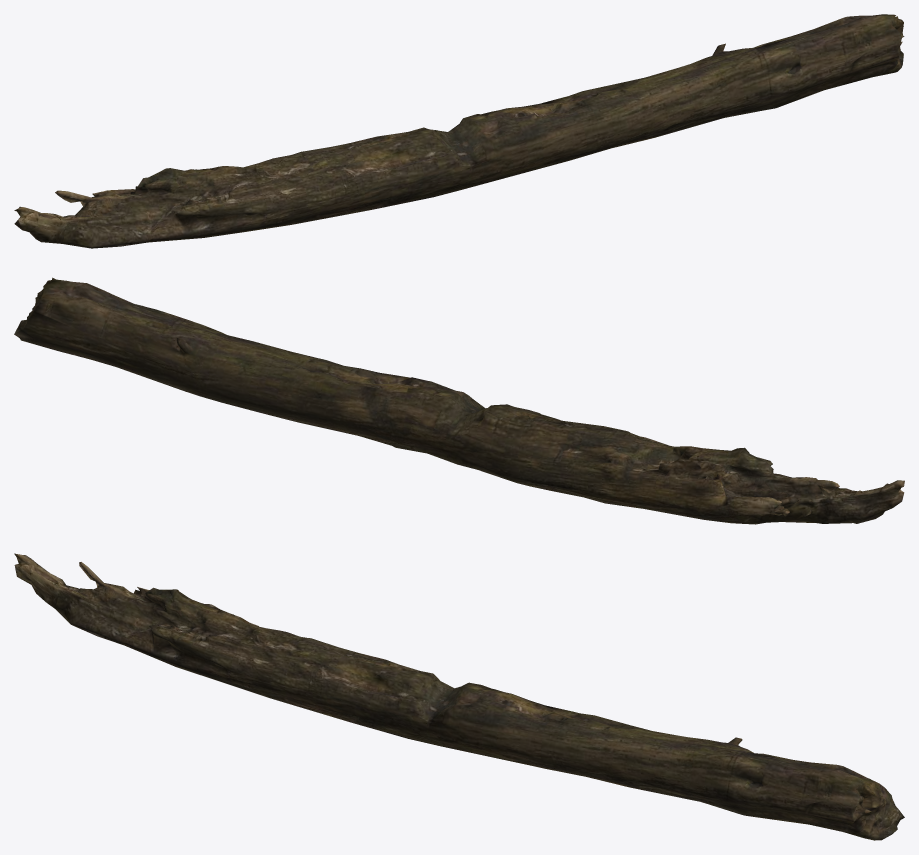
File: dead_tree_trunk.glb
The picture shows the model from 3 angles, top to bottom: view 1: azimuth 30°, elevation 25°; view 2: azimuth 150°, elevation 25°; view 3: azimuth 330°, elevation 25°; orthographic projection.
Parts seen in each view (by area): view 1: dead_tree_trunk; view 2: dead_tree_trunk; view 3: dead_tree_trunk.
Part boxes in pixels (x1,y1,x2,y2): dead_tree_trunk: [14, 14, 904, 248]; dead_tree_trunk: [14, 277, 904, 524]; dead_tree_trunk: [14, 553, 904, 840].
Bounding box in the file's own units: 3.05 × 0.287 × 0.2774.
1 material, 1 textured.
